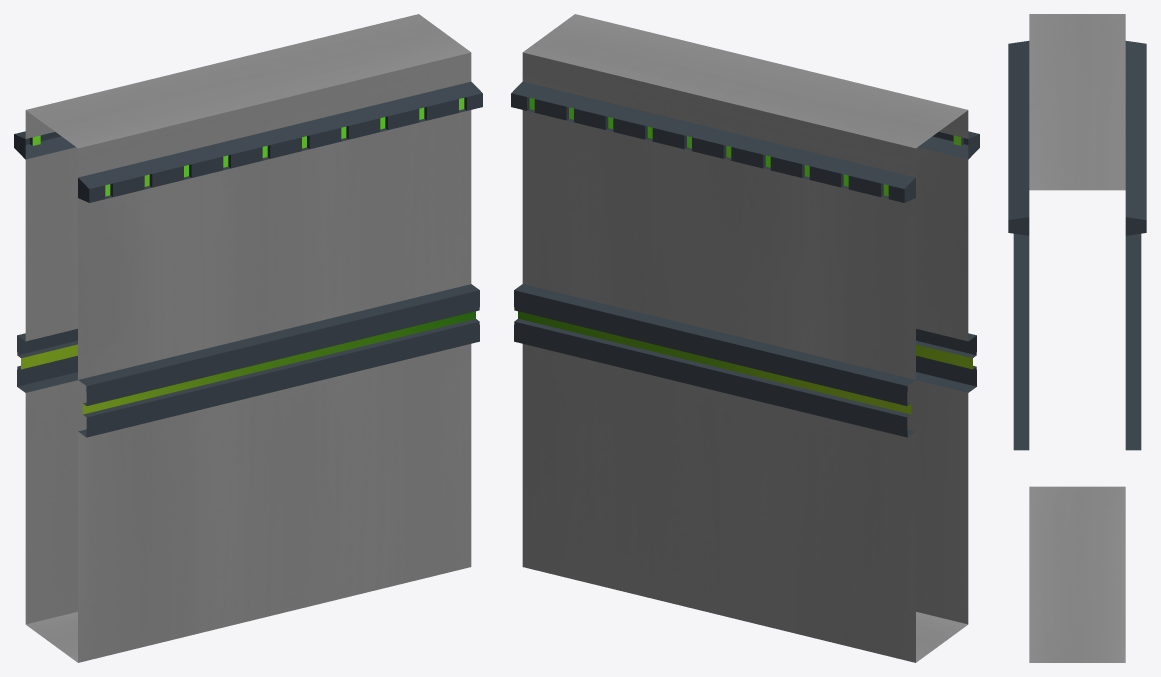
File: wall blank.fbx
3 views of the same model, side by side, from view 1: azimuth 30°, elevation 25°; view 2: azimuth 150°, elevation 25°; view 3: azimuth 270°, elevation 25° (orthographic). The views are drawn at different scales.
Parts seen in each view (by area): view 1: polySurface32; view 2: polySurface32; view 3: polySurface32.
Part boxes in pixels (box(x1,y1,x2,y2)): polySurface32: box(14, 14, 482, 662); polySurface32: box(511, 14, 979, 662); polySurface32: box(1008, 14, 1146, 662).
Size of the model in its own units: 2.21 by 2.77 by 0.7336.
2 materials, 2 textured.
